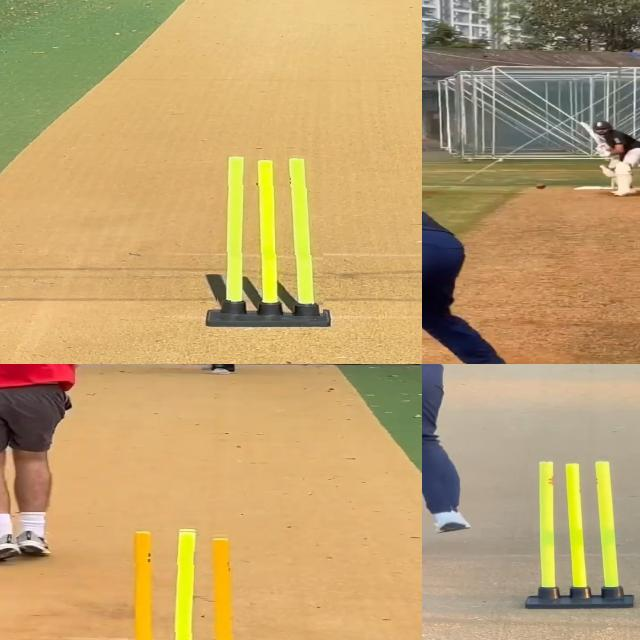Cricket ball: (536, 183, 546, 190)
Stumps: (215, 150, 323, 316), (522, 458, 637, 612), (112, 527, 250, 640)
